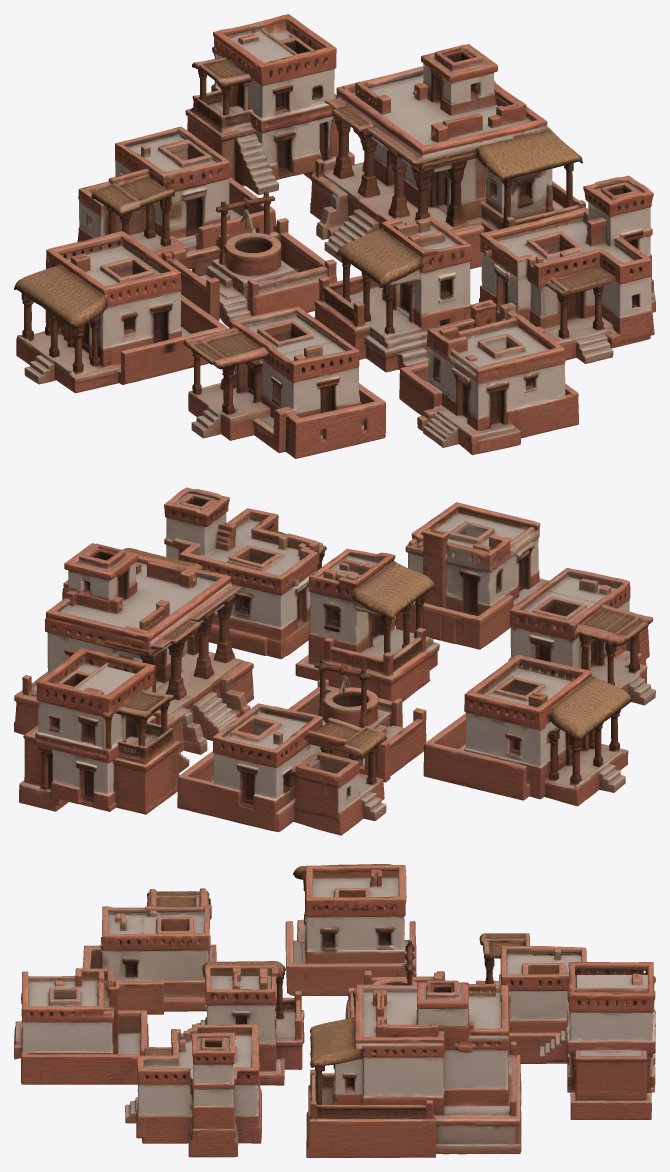
The model's file is Ancient Village (South Asian).fbx.
The picture shows the model from 3 angles, top to bottom: view 1: azimuth 30°, elevation 25°; view 2: azimuth 150°, elevation 25°; view 3: azimuth 270°, elevation 25°; orthographic projection. The views are drawn at different scales.
Parts seen in each view (by area): view 1: tripo_node_3601a3f3; view 2: tripo_node_3601a3f3; view 3: tripo_node_3601a3f3.
Boxes of the visible parts, x1,y1,x2,y2 form: tripo_node_3601a3f3: (14, 14, 655, 458); tripo_node_3601a3f3: (14, 487, 655, 835); tripo_node_3601a3f3: (14, 864, 655, 1157).
Size of the model in its own units: 0.8604 by 0.2585 by 1.
